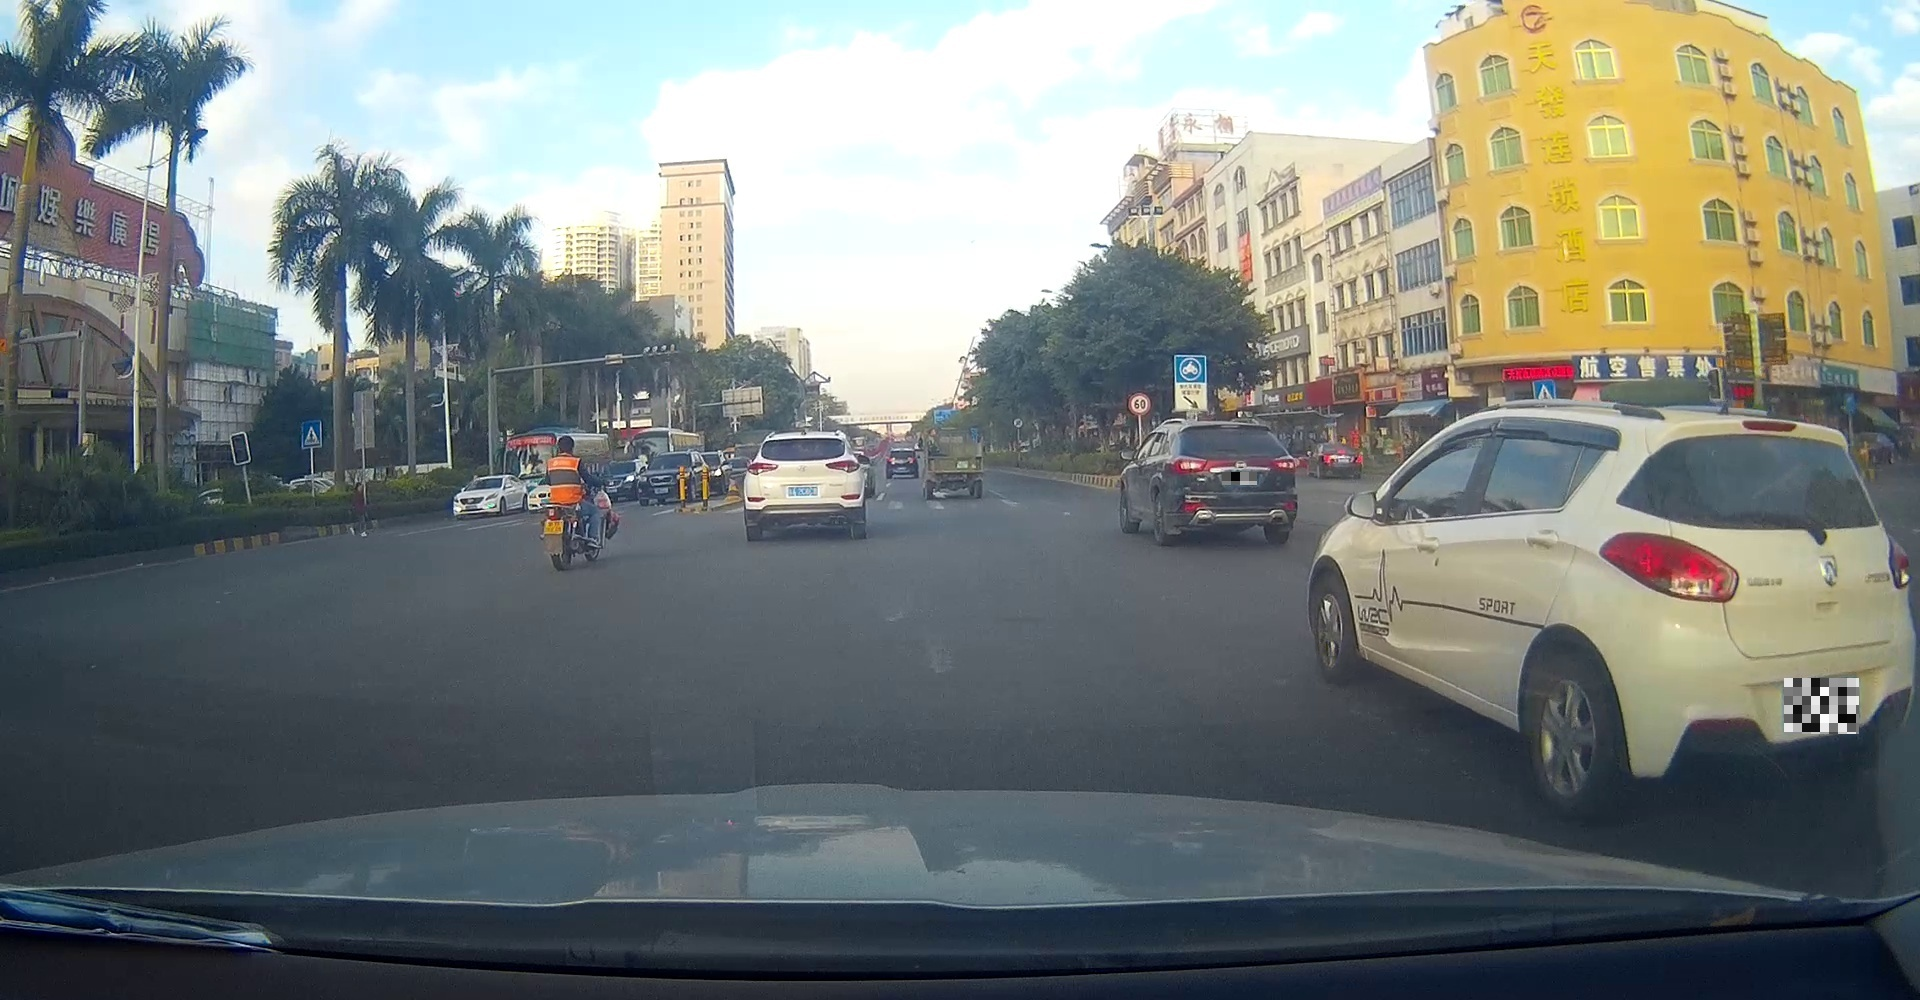L_light: (1597, 530, 1738, 603), (1175, 457, 1208, 473), (745, 462, 778, 475), (1323, 454, 1331, 464)
R_light: (1887, 536, 1911, 588), (825, 459, 860, 472), (1272, 457, 1297, 471), (1355, 454, 1363, 464)
T_light: (1741, 419, 1796, 431), (1222, 426, 1243, 431), (794, 439, 810, 442), (1337, 451, 1346, 454)
day-brake: (1321, 444, 1364, 478)
day-no: (1592, 418, 1917, 822), (1171, 423, 1297, 544), (743, 431, 863, 541)
plate_1: (1222, 472, 1257, 485)
plate_2: (1784, 678, 1859, 734)
